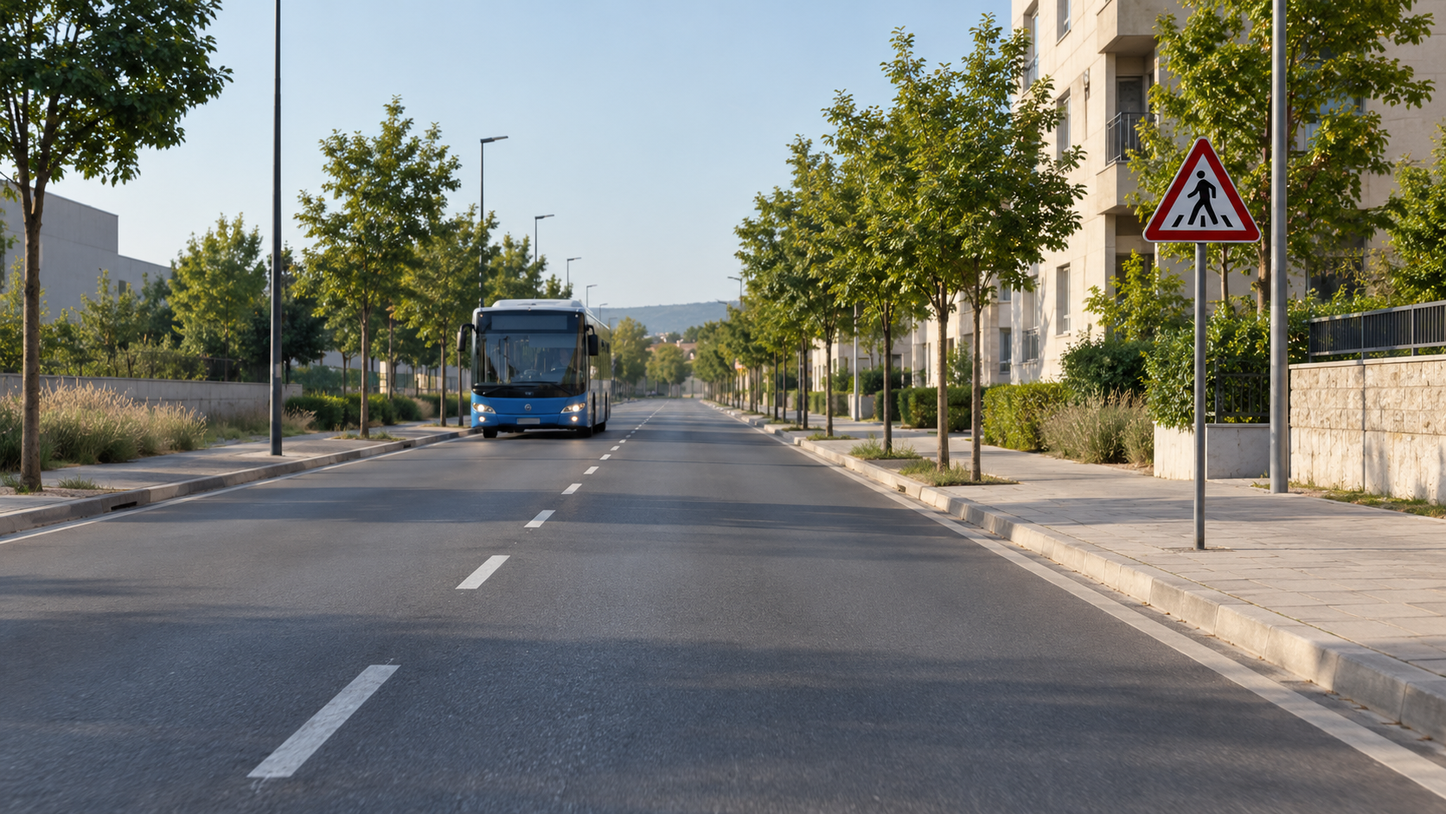bus: (457, 298, 613, 439)
crossing_warning_sign: (1139, 137, 1264, 244)
